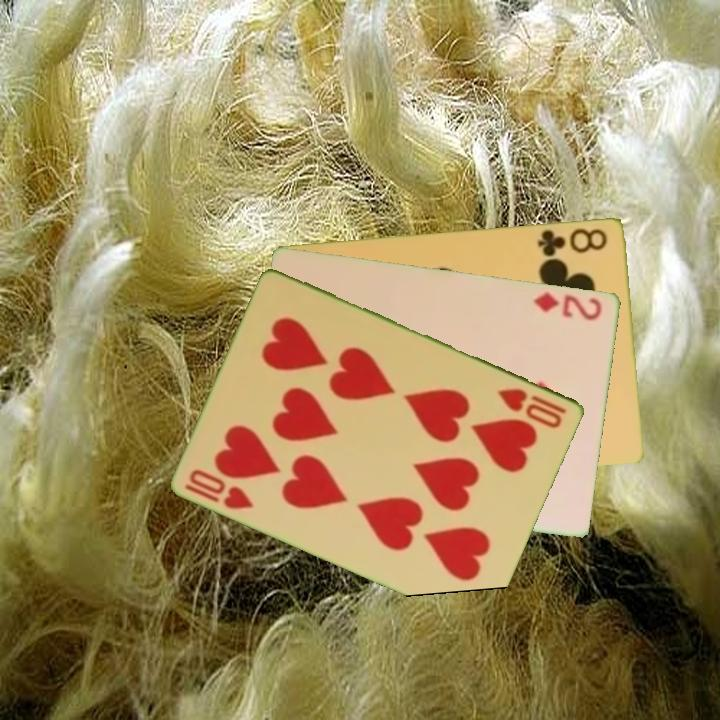10h: (181, 465, 257, 512), (495, 384, 570, 431)
2d: (531, 288, 606, 323)
8c: (534, 224, 611, 259)
